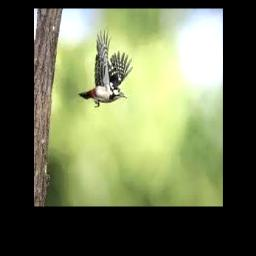Woodpecker: (79, 27, 134, 108)
